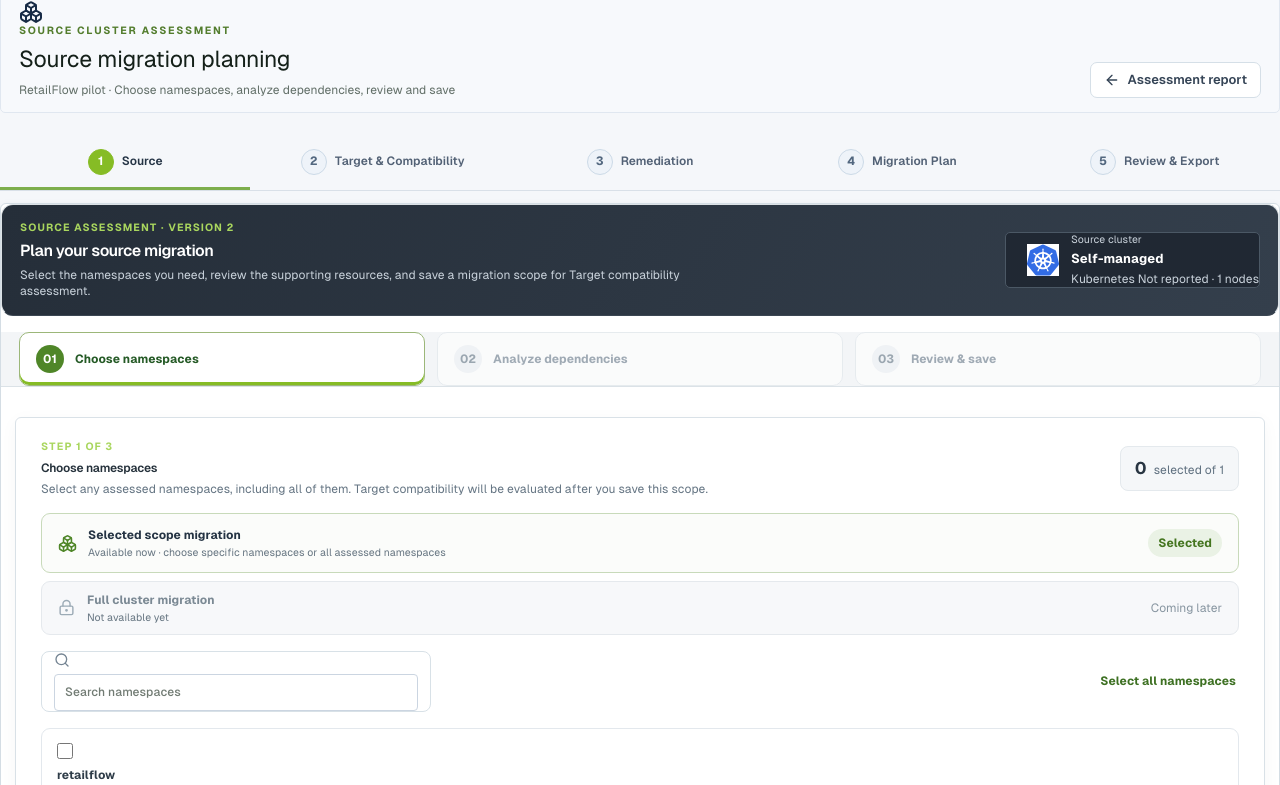
migration planning › guides users between remediation findings and closes customization on navigation
Click the button "3 Remediation": {"x": 640, "y": 163} [515,137,765,190]
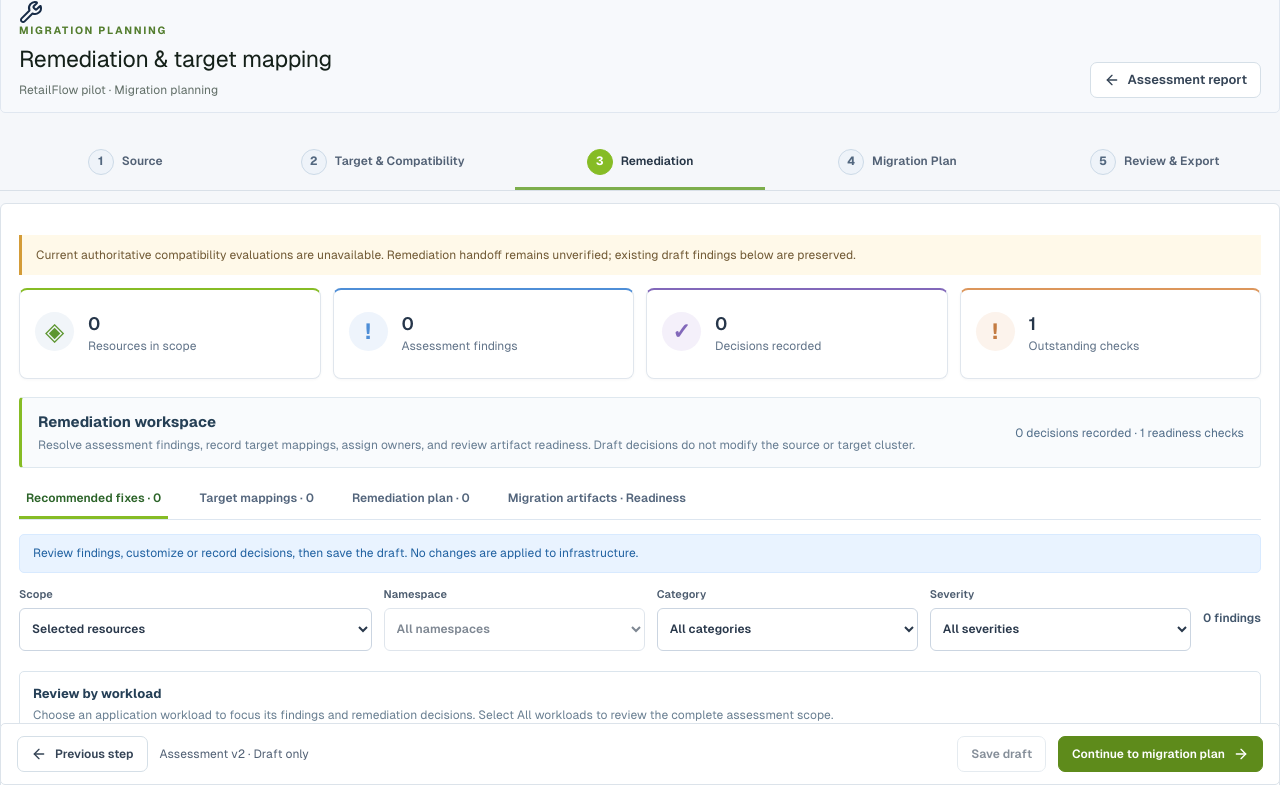
Select "Shared risks" in the dropdown named "Findings view": {"x": 195, "y": 629} [19,608,372,650]
(page scrolled)
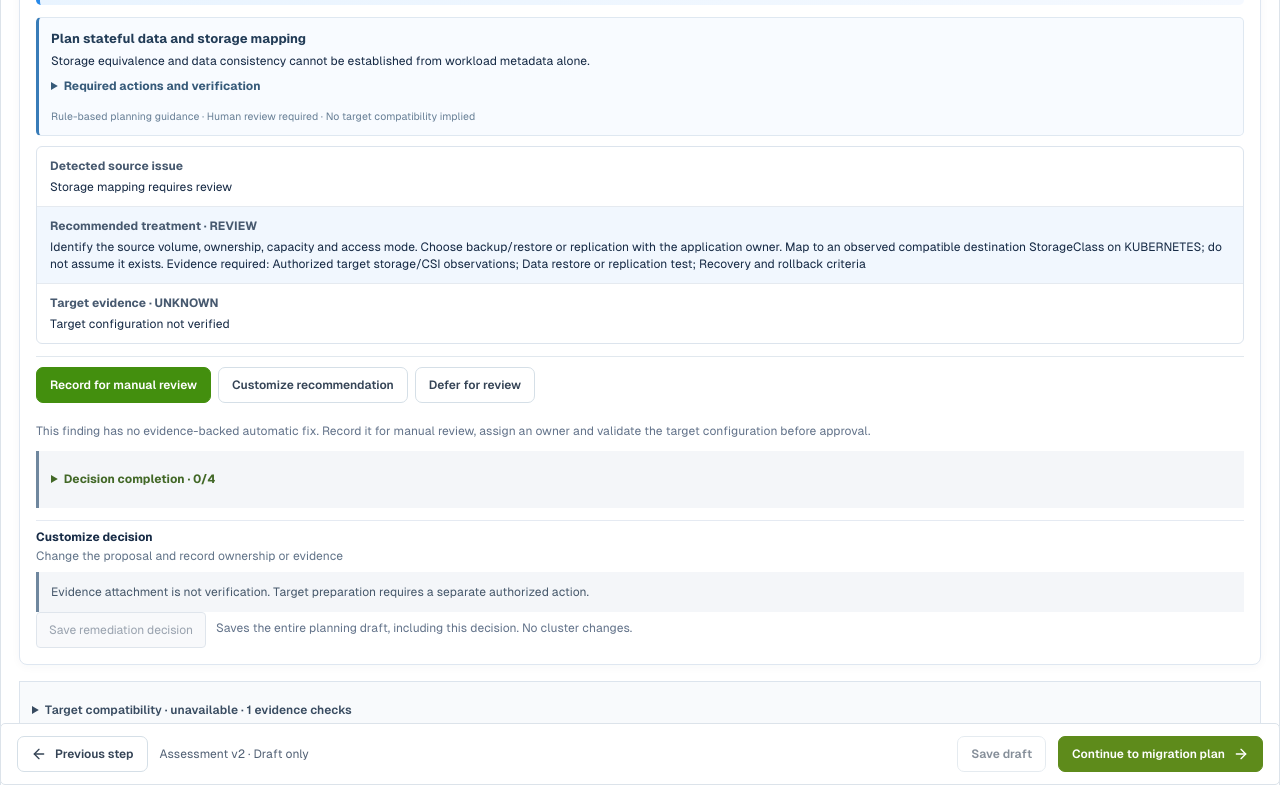
Click the button "Customize recommendation": {"x": 313, "y": 385} [218,367,408,403]
(page scrolled)
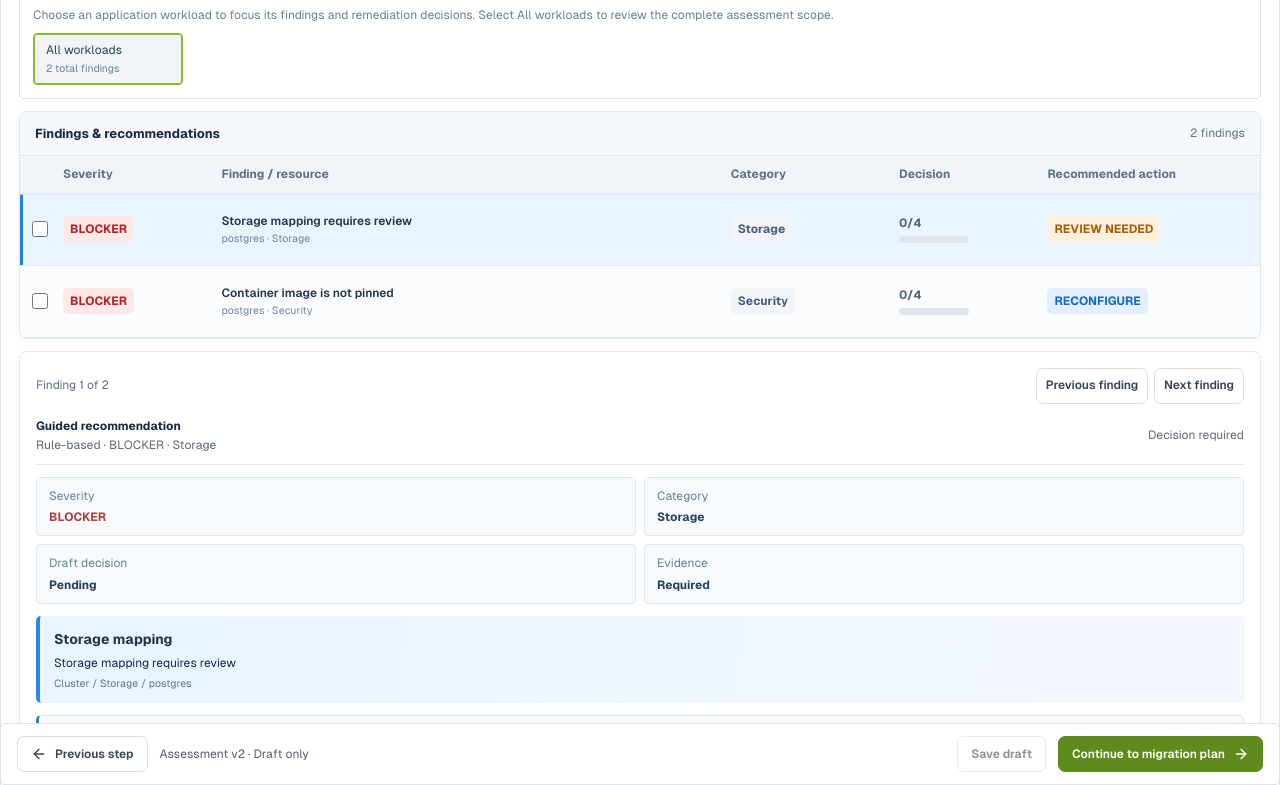
Click the button "Next finding": {"x": 1199, "y": 386} [1154,368,1244,404]
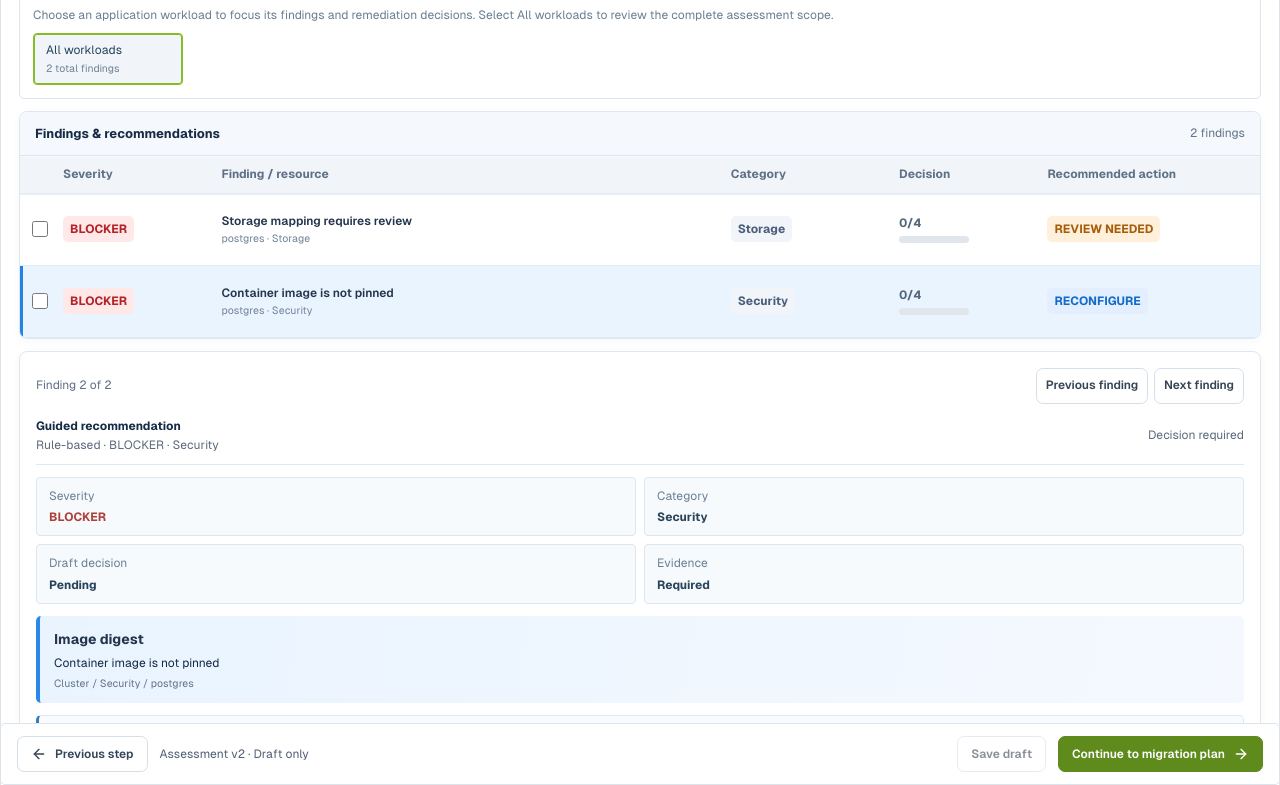
Expected: the field labelled "Target mapping" is not shown
Expected: the element named "Finding decision navigation" shows "Finding 2 of 2", [36,368,1244,404]
